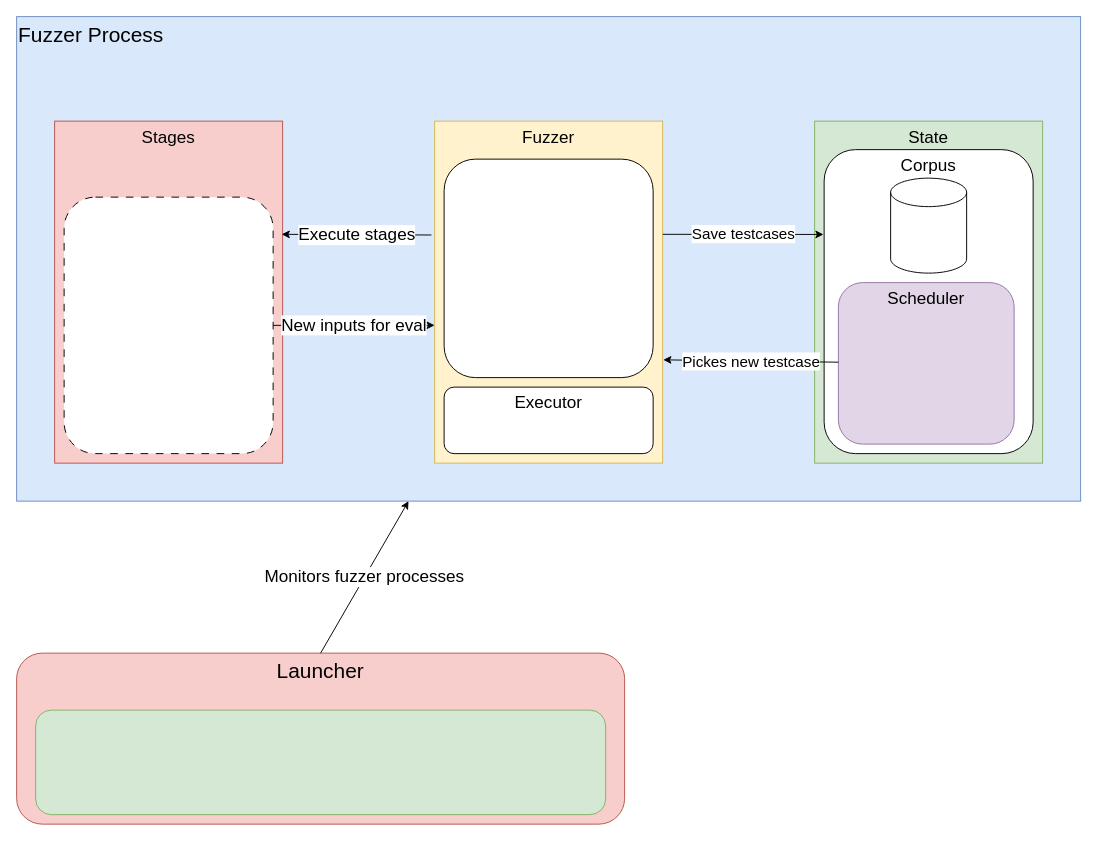
Some shapes in this 1097 by 841 pixel diagram are drawn without their labels. The shapes that lost their labels are listed below. From the top down, each one's centre as x and y in pixels, then its label:
pixel 928 225: Testcases
pixel 548 268: Feedback
pixel 168 325: Mutator/Generator (Optional)
pixel 320 762: Monitor
